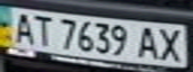3: (90, 20, 112, 55)
6: (75, 18, 96, 53)
7: (54, 16, 78, 51)
9: (109, 21, 133, 57)
A: (6, 10, 39, 45), (133, 24, 163, 61)
T: (30, 12, 57, 47)
X: (154, 25, 190, 62)
